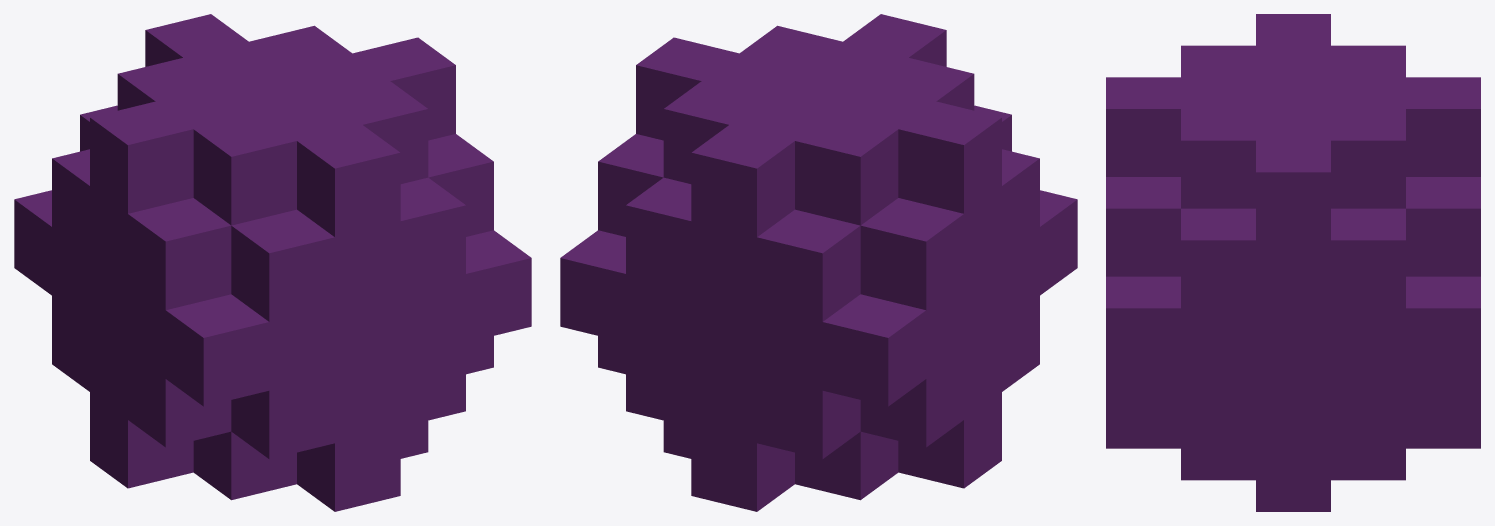
Rendered from body 2.obj.
3 views of the same model, side by side, from view 1: azimuth 30°, elevation 25°; view 2: azimuth 150°, elevation 25°; view 3: azimuth 270°, elevation 25° (orthographic).
Bounding box in the file's own units: 0.5 × 0.5 × 0.5.
Materials: 1 (1 with a texture image).
